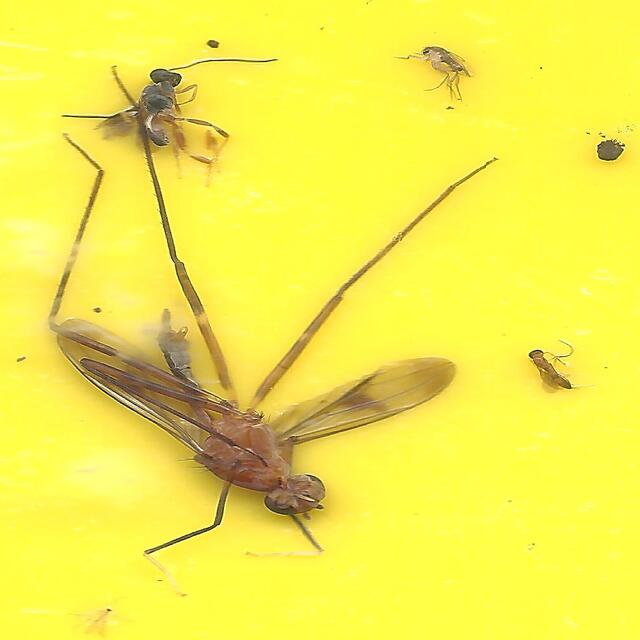Brachycera: (64, 100, 499, 594)
Hymenoptera: (101, 57, 277, 186), (528, 341, 576, 393)
Nematocera: (404, 46, 474, 96)
